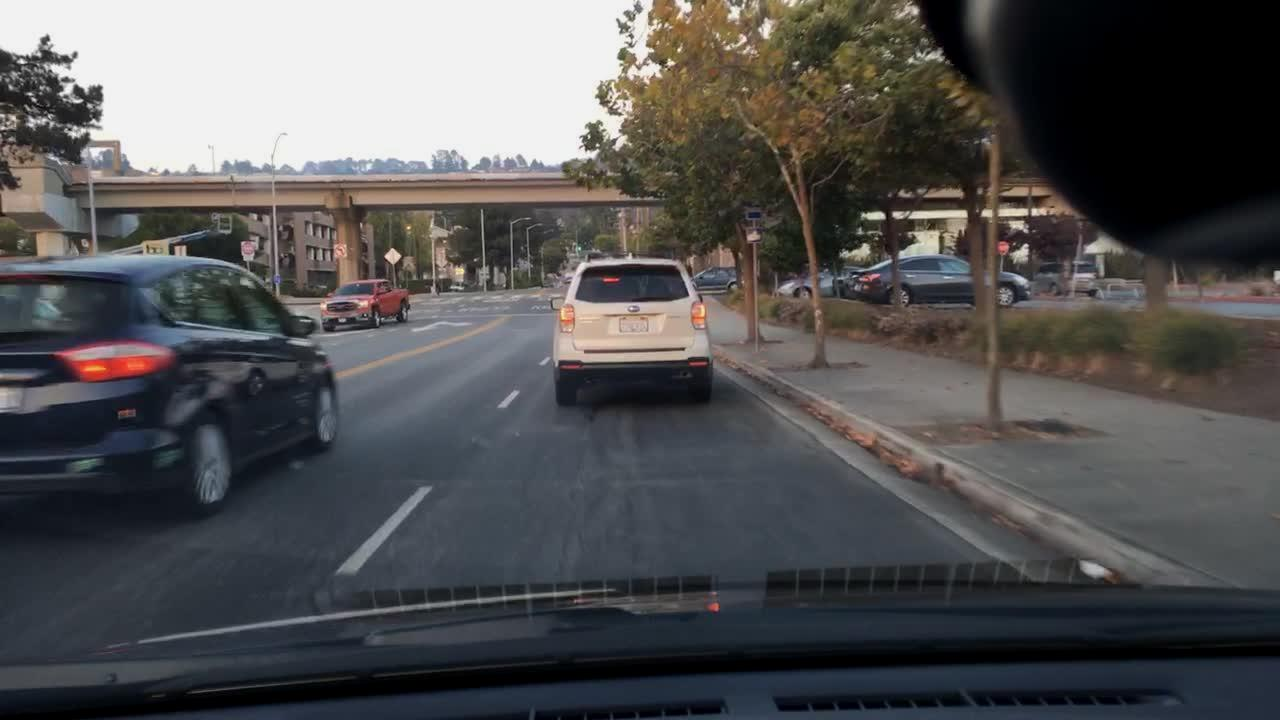subaru: (623, 301, 643, 315)
